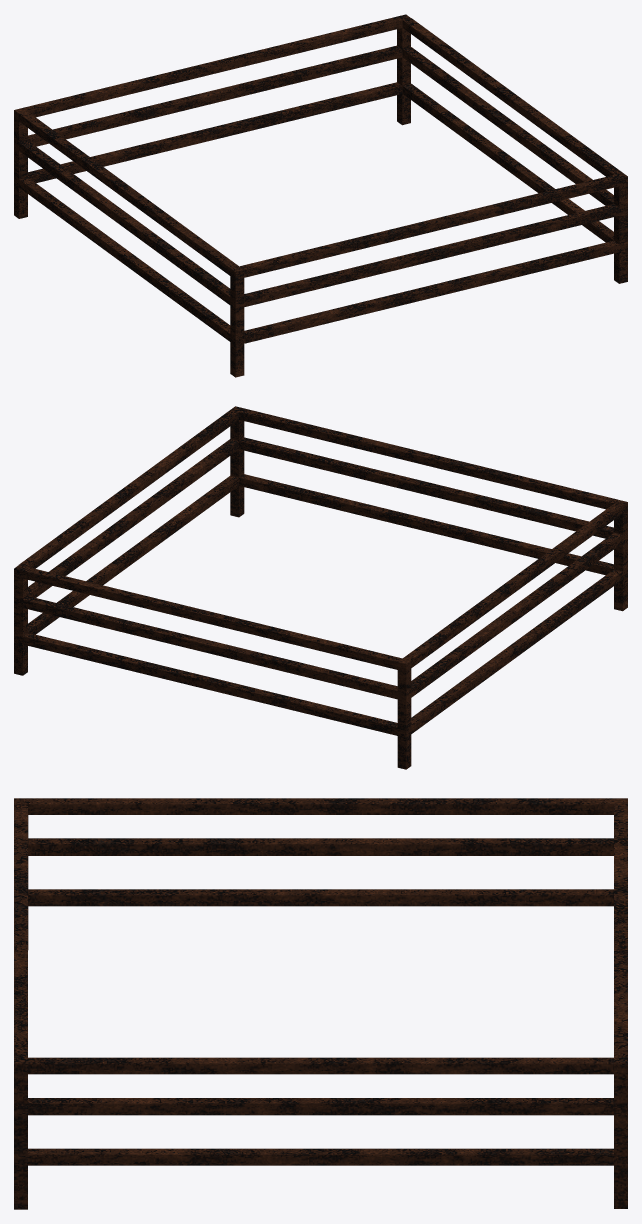
The model's file is fence.glb.
3 renders of one model, top to bottom at view 1: azimuth 30°, elevation 25°; view 2: azimuth 150°, elevation 25°; view 3: azimuth 270°, elevation 25°, orthographic. The views are drawn at different scales.
Visible parts, largest first — view 1: fence; view 2: fence; view 3: fence.
Part boxes in pixels (x1,y1,x2,y2): fence: (14,14,627,377); fence: (14,406,627,769); fence: (14,798,627,1209).
Bounding box in the file's own units: 15.65 × 4.02 × 15.3.
1 material, 1 textured.
